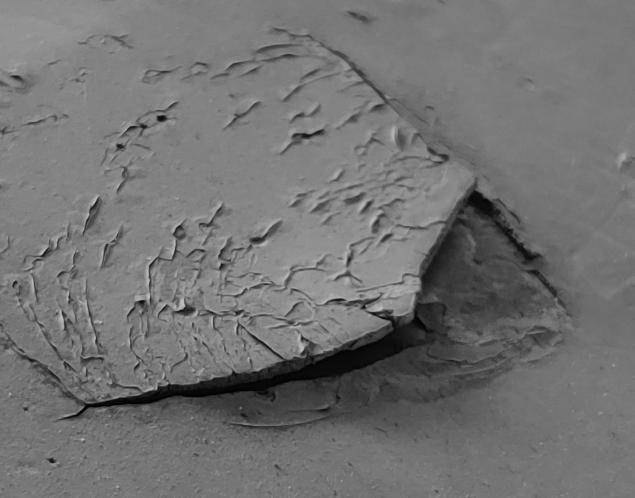crack: (1, 0, 635, 498)
